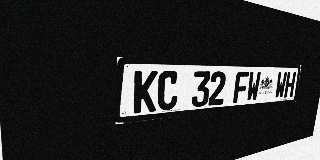2: (208, 71, 226, 106)
3: (191, 71, 211, 108)
C: (157, 71, 179, 111)
F: (233, 71, 249, 103)
H: (284, 72, 296, 98)
K: (133, 71, 158, 114)
W: (246, 72, 261, 102), (274, 72, 287, 99)
